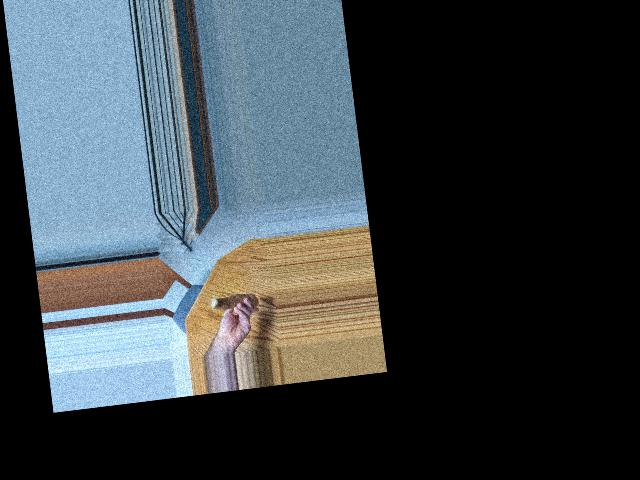sweet_potato: (208, 291, 260, 316)
